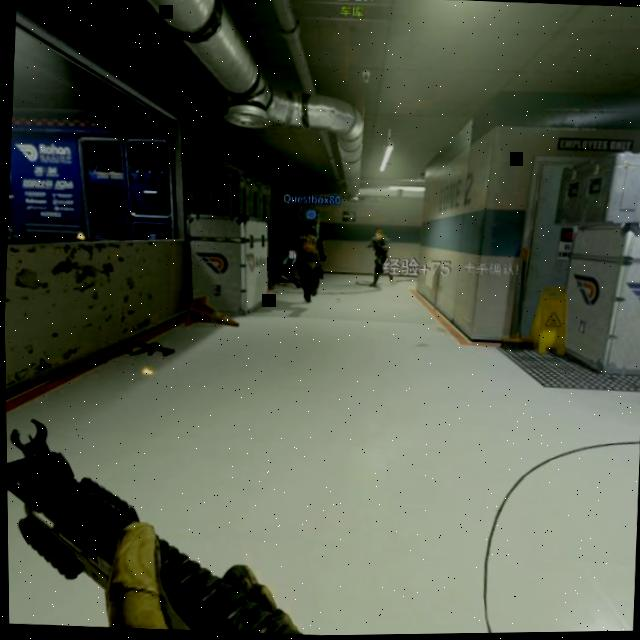MW2_body: (364, 229, 396, 291)
